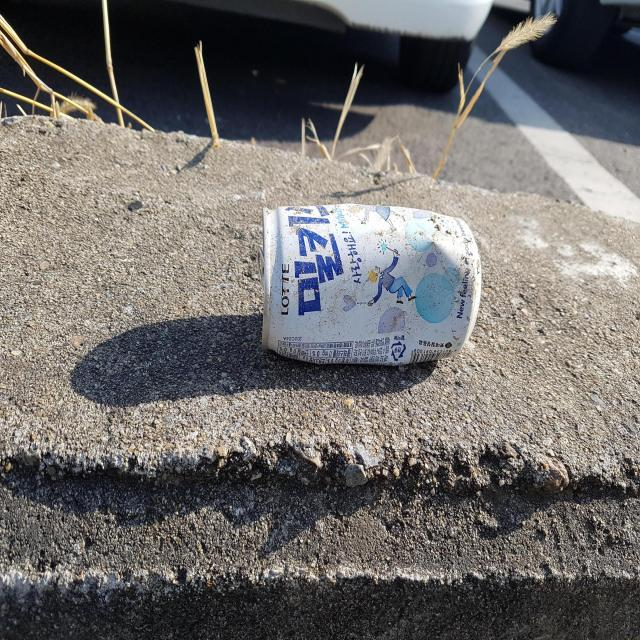can: (260, 203, 482, 365)
